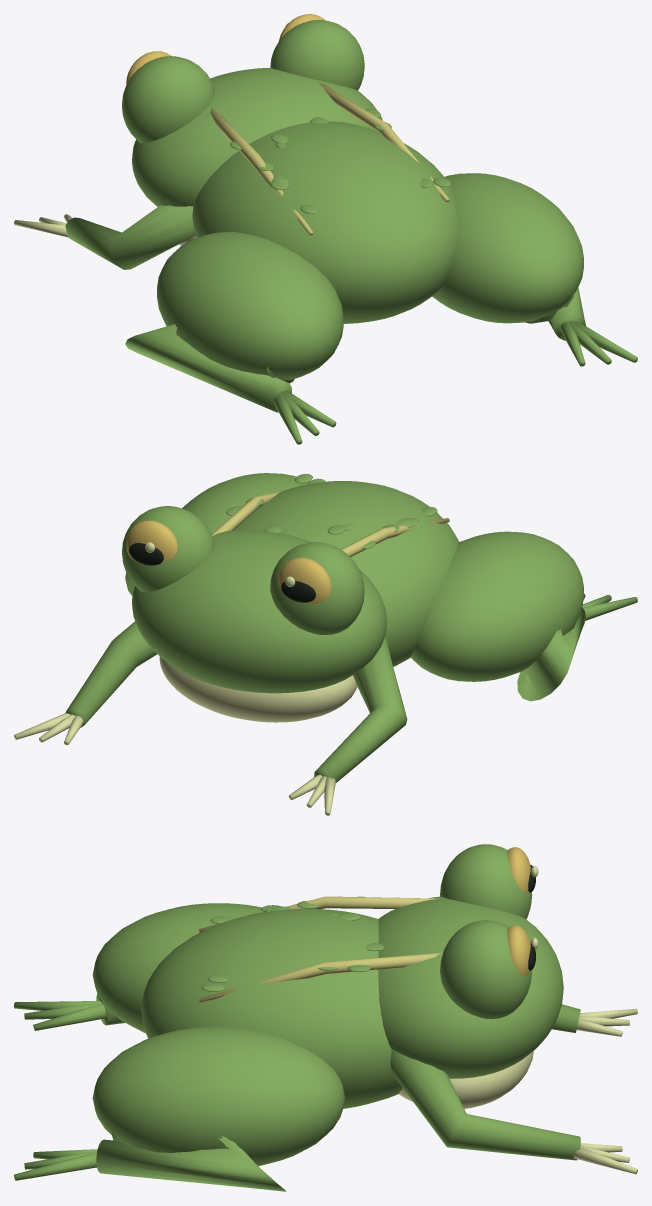
Rendered from frog.glb.
3 renders of one model, top to bottom at view 1: azimuth 30°, elevation 25°; view 2: azimuth 150°, elevation 25°; view 3: azimuth 270°, elevation 25°, orthographic. The views are drawn at different scales.
Parts seen in each view (by area): view 1: Frog body, Powerful folded thigh, Powerful folded thigh.001, Broad frog head, Raised eye mound, Front arm, Raised eye mound.001, Folded hind leg, Dorsolateral ridge.001, Dorsolateral ridge, Folded hind leg.001, Hind webbed toe.005; view 2: Broad frog head, Powerful folded thigh, Frog body, Frog throat, Raised eye mound, Front arm, Raised eye mound.001, Front arm.001, Powerful folded thigh.001, Folded hind leg, Golden eye, Golden eye.001 (+5 smaller); view 3: Frog body, Powerful folded thigh.001, Broad frog head, Powerful folded thigh, Front arm.001, Raised eye mound.001, Folded hind leg.001, Raised eye mound, Frog throat, Dorsolateral ridge.001, Dorsolateral ridge, Hind webbed toe.005 (+7 smaller).
Part boxes in pixels (x1,y1,x2,y2): Frog body: (192,121,459,323); Powerful folded thigh: (157,232,343,379); Powerful folded thigh.001: (432,173,583,323); Broad frog head: (132,68,382,206); Raised eye mound: (122,56,214,142); Front arm: (65,205,195,269); Raised eye mound.001: (270,20,364,90); Folded hind leg: (125,324,294,412); Dorsolateral ridge.001: (317,81,449,202); Dorsolateral ridge: (210,107,313,235); Folded hind leg.001: (525,287,585,340); Hind webbed toe.005: (572,321,637,362); Broad frog head: (132,530,386,693); Powerful folded thigh: (411,531,583,681); Frog body: (233,481,459,666); Frog throat: (159,656,357,722); Raised eye mound: (270,542,364,634); Front arm: (314,636,407,782); Raised eye mound.001: (122,506,214,592); Front arm.001: (65,621,157,727); Powerful folded thigh.001: (182,473,308,533); Folded hind leg: (517,608,585,701); Golden eye: (278,557,331,603); Golden eye.001: (126,520,177,562); Frog body: (141,909,402,1108); Powerful folded thigh.001: (92,1026,344,1166); Broad frog head: (378,896,563,1078); Powerful folded thigh: (92,903,263,1033); Front arm.001: (390,1049,580,1160); Raised eye mound.001: (440,920,531,1018); Folded hind leg.001: (96,1130,286,1191); Raised eye mound: (440,844,532,919); Frog throat: (398,1051,533,1108); Dorsolateral ridge.001: (199,953,441,1002); Dorsolateral ridge: (199,896,440,932); Hind webbed toe.005: (14,1152,96,1180).
Bounding box in the file's own units: 1.1 × 0.48 × 1.28.
